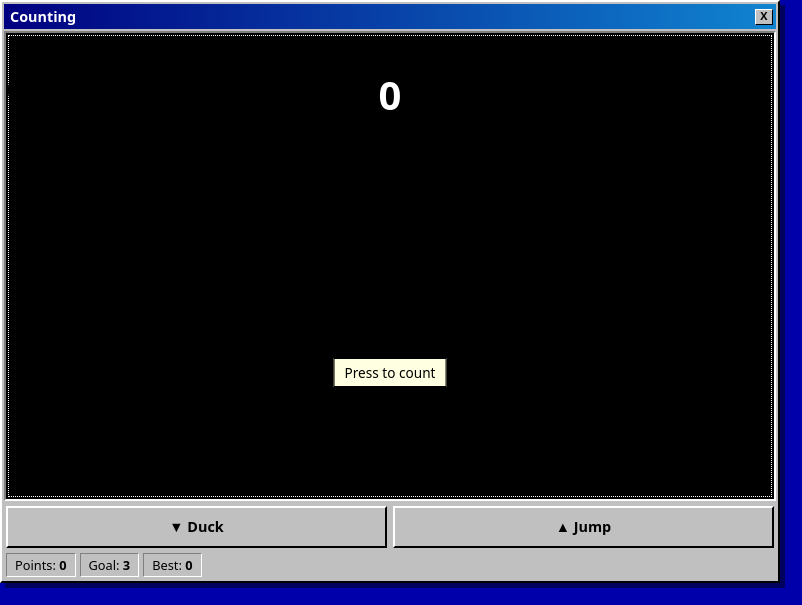
Test: the window a game is played in › should take a jump from the keyboard, from the field and from the button for it
The image size is (802, 605).
Press Space
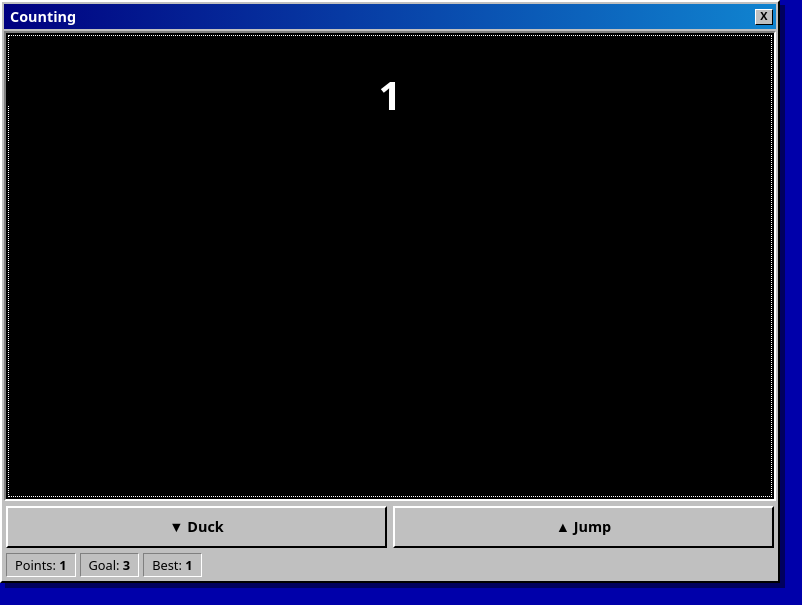
expect the text "Points:" reads "Points: 1": met, box 6,553 -> 76,577
Press the mouse on the element showing "playing 1" at (390, 266), box 4,31 -> 776,501
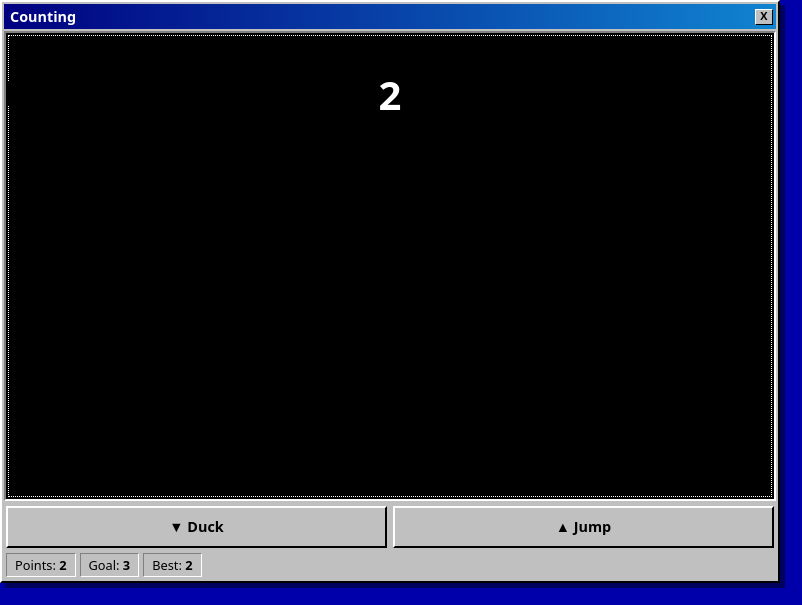
expect the text "Points:" reads "Points: 2": met, box 6,553 -> 76,577
Press the mouse on the button "▲ Jump" at (584, 527), box 393,506 -> 774,548
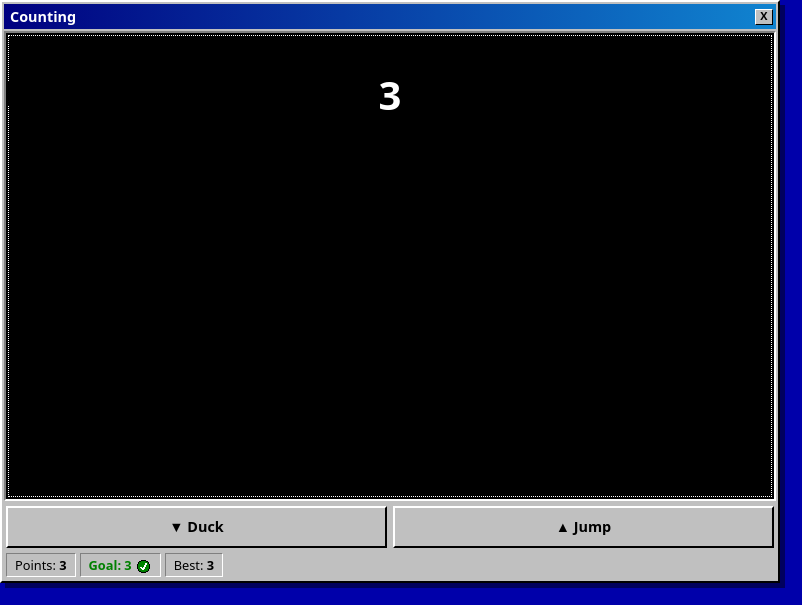
expect the text "Press to count" is not shown: met
expect the text "Points:" reads "Points: 3": met, box 6,553 -> 76,577
